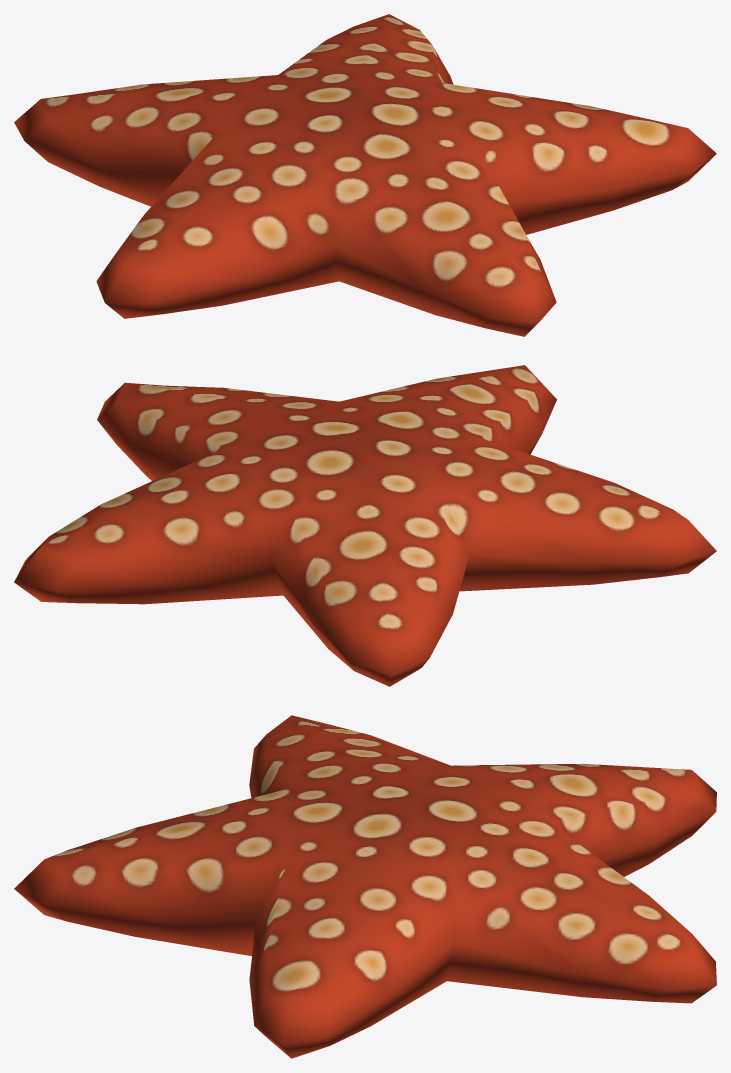
The model's file is sea_star.fbx.
3 renders of one model, top to bottom at view 1: azimuth 30°, elevation 25°; view 2: azimuth 150°, elevation 25°; view 3: azimuth 270°, elevation 25°, orthographic. The views are drawn at different scales.
Parts seen in each view (by area): view 1: sea_star_mesh; view 2: sea_star_mesh; view 3: sea_star_mesh.
Part boxes in pixels (<box>): sea_star_mesh: <box>14,14,716,336</box>; sea_star_mesh: <box>14,365,716,686</box>; sea_star_mesh: <box>14,715,716,1058</box>.
Size of the model in its own units: 0.4679 by 0.0832 by 0.445.
